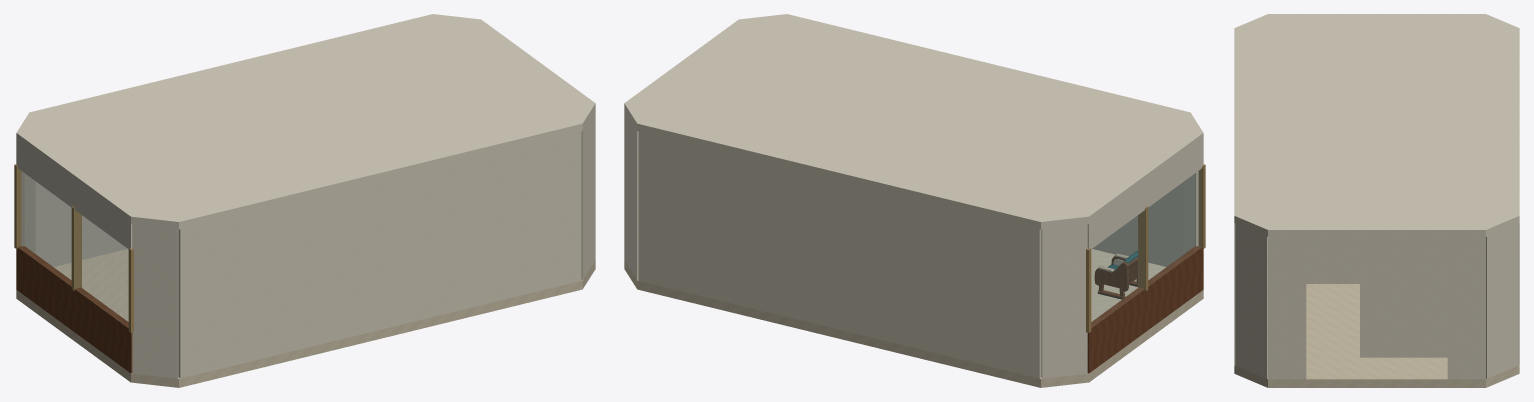
File: D04_PORT_CENTRAL_HOME_887_r001.glb
3 renders of one model, left to right at view 1: azimuth 30°, elevation 25°; view 2: azimuth 150°, elevation 25°; view 3: azimuth 270°, elevation 25°, orthographic. The views are drawn at different scales.
Visible parts, largest first — view 1: PC887_D04H886_Roof, PC887_D04H886_Shell_3, PC887_D04H886_Floor, PC887_D04H886_GardenGlass, PC887_D04H886_Shell_2, PC887_D04H886_GardenDado, PC887_D04H886_Shell_7, PC887_D04H886_GardenHead, PC887_D04H886_Shell_4, PC887_D04H886_Shell_0, PC887_D04H886_WindowMullion_1, PC887_D04H886_WindowMullion_0 (+1 smaller); view 2: PC887_D04H886_Roof, PC887_D04H886_Shell_7, PC887_D04H886_GardenGlass, PC887_D04H886_Floor, PC887_D04H886_Shell_0, PC887_D04H886_GardenDado, PC887_D04H886_Shell_3, PC887_D04H886_GardenHead, PC887_D04H886_Shell_6, PC887_D04H886_Shell_2, PC887_D04H886_WindowMullion_1, PC887_D04H886_WindowMullion_2 (+2 smaller); view 3: PC887_D04H886_Roof, PC887_D04H886_Floor, PC887_D04H886_EntryHeader, PC887_D04H886_BathDogleg, PC887_D04H886_EntryWall_0, PC887_D04H886_EntryWall_1, PC887_D04H886_Shell_4, PC887_D04H886_Shell_6, PC887_D04H886_BathScreen, PC887_D04H886_Shell_3, PC887_D04H886_Shell_7.
Part boxes in pixels (bbox=[...]): PC887_D04H886_Roof: bbox=[16, 14, 595, 229]; PC887_D04H886_Shell_3: bbox=[178, 131, 581, 378]; PC887_D04H886_Floor: bbox=[16, 249, 595, 387]; PC887_D04H886_GardenGlass: bbox=[19, 173, 128, 325]; PC887_D04H886_Shell_2: bbox=[132, 224, 178, 378]; PC887_D04H886_GardenDado: bbox=[16, 246, 132, 373]; PC887_D04H886_Shell_7: bbox=[35, 181, 127, 266]; PC887_D04H886_GardenHead: bbox=[16, 140, 132, 248]; PC887_D04H886_Shell_4: bbox=[581, 111, 595, 279]; PC887_D04H886_Shell_0: bbox=[21, 171, 35, 253]; PC887_D04H886_WindowMullion_1: bbox=[71, 206, 81, 290]; PC887_D04H886_WindowMullion_0: bbox=[14, 164, 24, 249]; PC887_D04H886_Roof: bbox=[624, 14, 1203, 229]; PC887_D04H886_Shell_7: bbox=[638, 131, 1041, 378]; PC887_D04H886_GardenGlass: bbox=[1091, 173, 1199, 325]; PC887_D04H886_Floor: bbox=[624, 249, 1203, 387]; PC887_D04H886_Shell_0: bbox=[1041, 224, 1087, 378]; PC887_D04H886_GardenDado: bbox=[1087, 246, 1203, 373]; PC887_D04H886_Shell_3: bbox=[1092, 181, 1184, 266]; PC887_D04H886_GardenHead: bbox=[1087, 140, 1203, 248]; PC887_D04H886_Shell_6: bbox=[624, 111, 638, 279]; PC887_D04H886_Shell_2: bbox=[1184, 171, 1198, 253]; PC887_D04H886_WindowMullion_1: bbox=[1138, 206, 1148, 290]; PC887_D04H886_WindowMullion_2: bbox=[1195, 164, 1205, 249]; PC887_D04H886_Roof: bbox=[1234, 14, 1519, 237]; PC887_D04H886_Floor: bbox=[1234, 284, 1519, 387]; PC887_D04H886_EntryHeader: bbox=[1306, 237, 1447, 283]; PC887_D04H886_BathDogleg: bbox=[1360, 284, 1447, 357]; PC887_D04H886_EntryWall_0: bbox=[1447, 237, 1485, 379]; PC887_D04H886_EntryWall_1: bbox=[1268, 237, 1306, 379]; PC887_D04H886_Shell_4: bbox=[1235, 223, 1267, 378]; PC887_D04H886_Shell_6: bbox=[1486, 223, 1518, 378]; PC887_D04H886_BathScreen: bbox=[1360, 284, 1366, 357]; PC887_D04H886_Shell_3: bbox=[1234, 223, 1235, 364]; PC887_D04H886_Shell_7: bbox=[1518, 223, 1519, 364].
Size of the model in its own units: 12.92 by 4.4 by 7.2.
36 materials, 21 textured.
